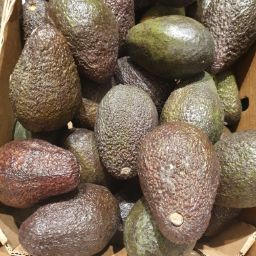Avocado: (5, 2, 231, 256), (14, 14, 256, 223), (127, 119, 225, 254), (19, 2, 101, 138), (23, 2, 166, 79), (16, 26, 99, 144), (2, 179, 124, 255), (90, 79, 176, 181), (122, 9, 220, 81), (2, 134, 87, 206), (194, 1, 256, 87), (205, 120, 256, 220)
